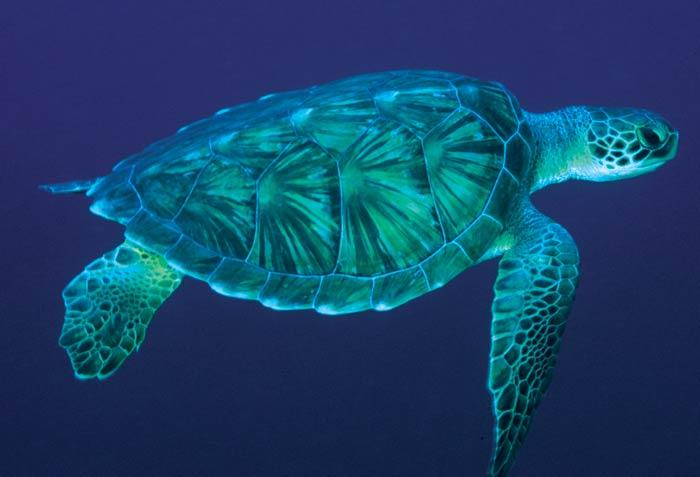turtle: (556, 101, 686, 185)
